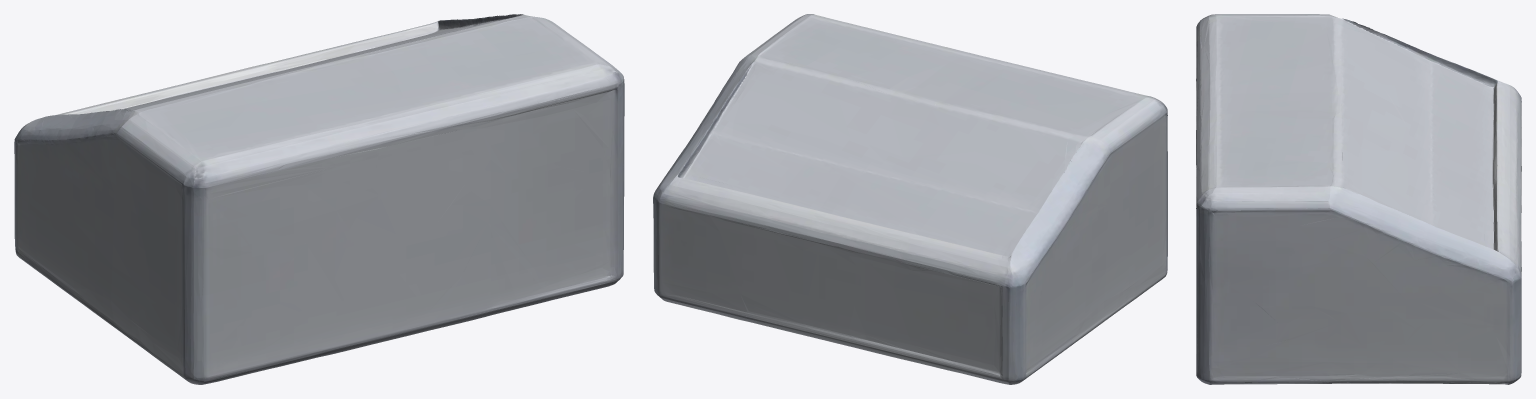
The model's file is box_storage_white_rect.glb.
The picture shows the model from 3 angles, left to right: view 1: azimuth 30°, elevation 25°; view 2: azimuth 150°, elevation 25°; view 3: azimuth 270°, elevation 25°; orthographic projection. The views are drawn at different scales.
Parts seen in each view (by area): view 1: geometry_0; view 2: geometry_0; view 3: geometry_0.
Boxes of the visible parts, x1=… form: geometry_0: x1=14, y1=14, x2=624, y2=384; geometry_0: x1=653, y1=14, x2=1167, y2=384; geometry_0: x1=1196, y1=14, x2=1521, y2=384.
Bounding box in the file's own units: 0.9998 × 0.4803 × 0.7222.
Materials: 1 (1 with a texture image).
